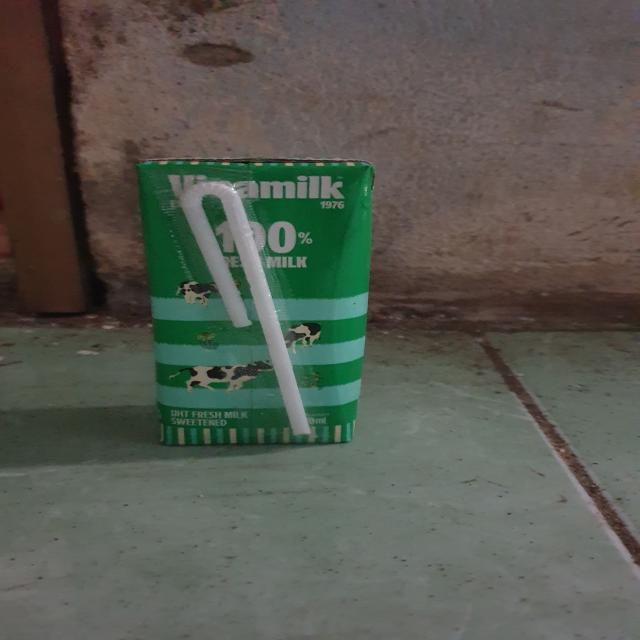Vina: (127, 153, 386, 450)
